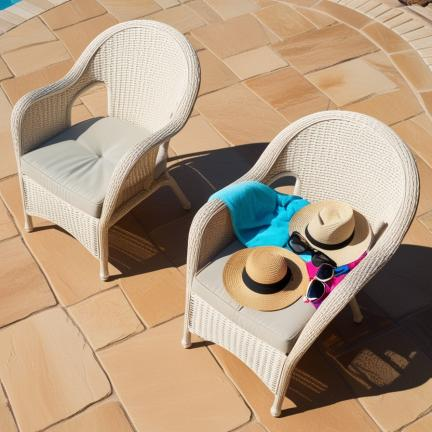empty chair: (12, 21, 200, 280)
occupied chair: (182, 111, 419, 416)
